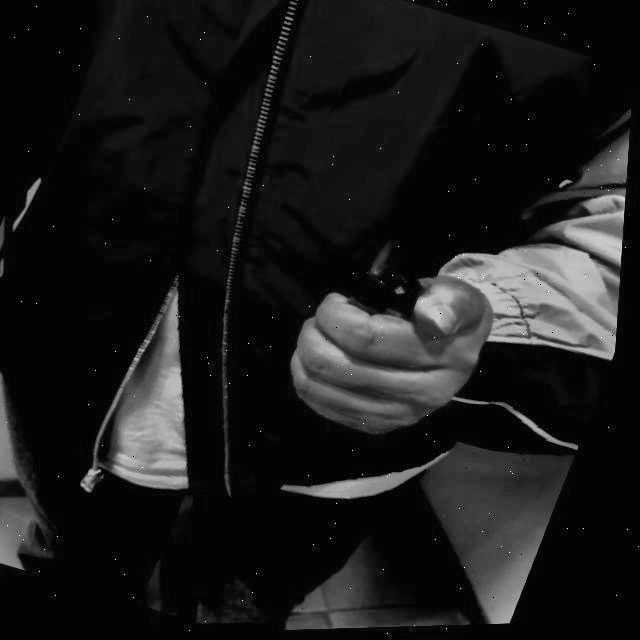Fire: (368, 236, 403, 283)
